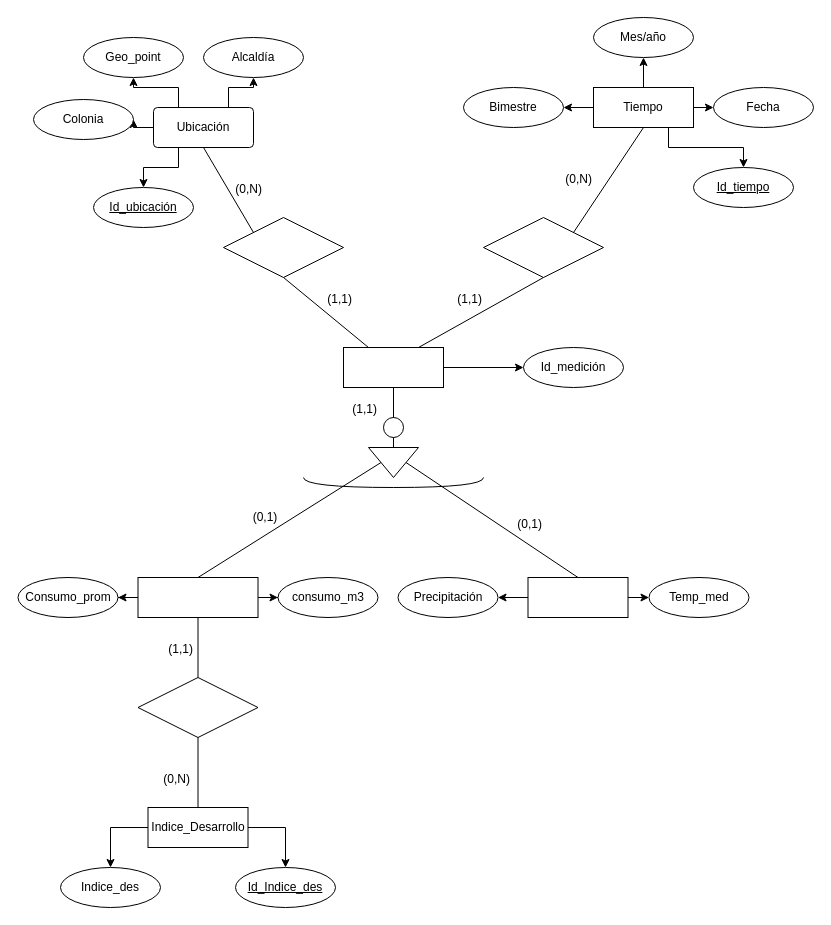
The diagram is 831 pixels wide and 925 high, and some of its shapes have lost their labels. The shapes that lost their labels are listed below. From the top down, each one's centre as x and y in pixels, then its label:
the point at 283,247: Ubicar
the point at 543,247: Registrar
the point at 393,367: Medición
the point at 197,597: Consumo_Agua
the point at 577,597: Registro_clima
the point at 197,707: Clasificar
